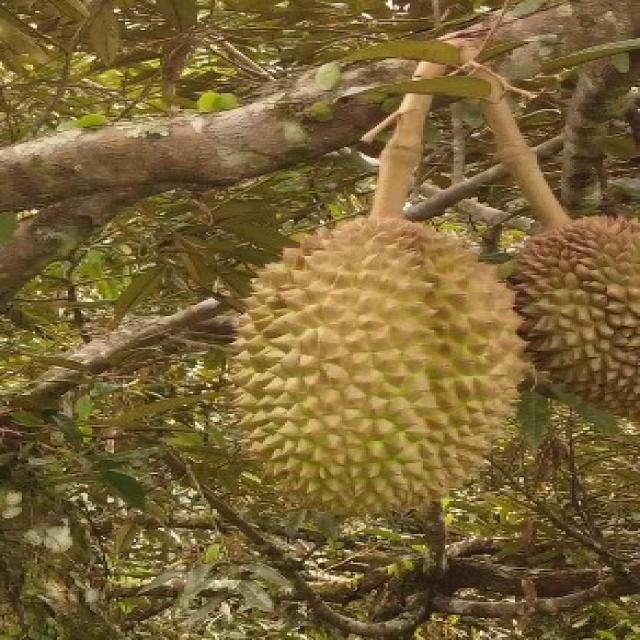mature: (223, 212, 528, 524), (502, 215, 640, 434)
